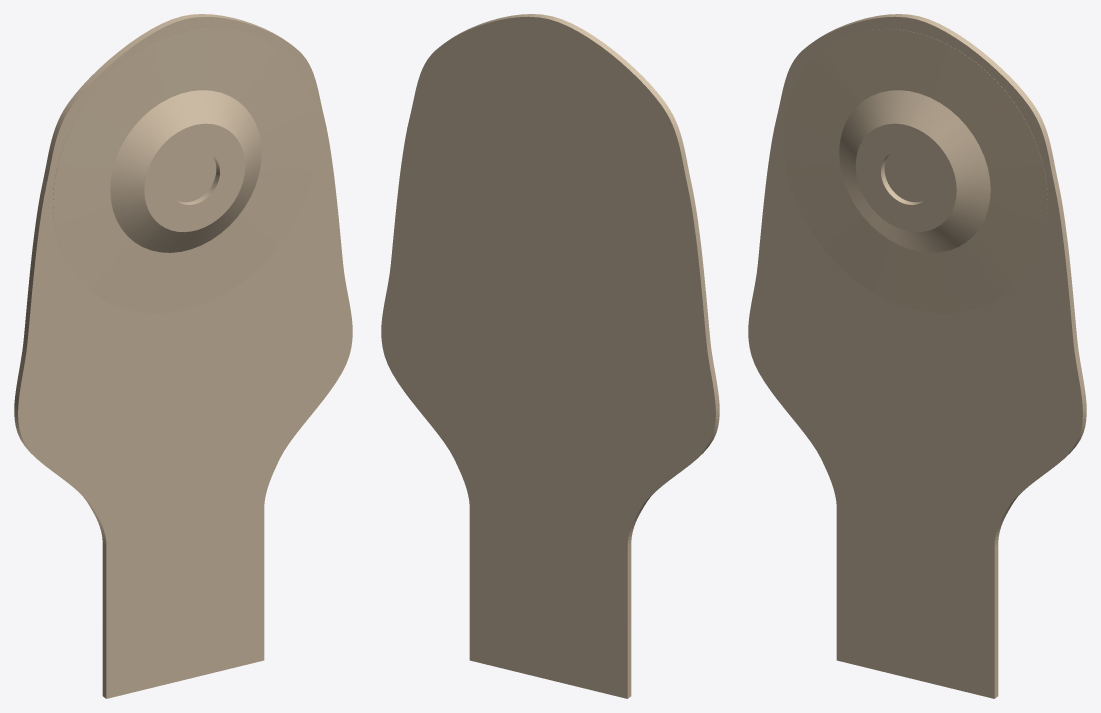
The picture shows the model from 3 angles, left to right: view 1: azimuth 30°, elevation 25°; view 2: azimuth 150°, elevation 25°; view 3: azimuth 330°, elevation 25°; orthographic projection.
Parts seen in each view (by area): view 1: slab, concentric_relief; view 2: slab; view 3: slab, concentric_relief.
Boxes of the visible parts, x1=… form: slab: x1=14, y1=14, x2=352, y2=698; concentric_relief: x1=53, y1=28, x2=317, y2=313; slab: x1=381, y1=14, x2=719, y2=698; slab: x1=748, y1=14, x2=1086, y2=698; concentric_relief: x1=783, y1=28, x2=1047, y2=313.
Size of the model in its own units: 0.053 by 0.1 by 0.00363.
